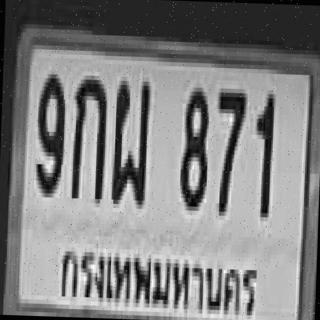A01: (70, 71, 106, 199)
A28: (110, 74, 149, 203)
N01: (252, 90, 273, 213)
N07: (214, 84, 245, 212)
N08: (178, 81, 208, 205)
N09: (34, 67, 64, 191)
P04: (56, 238, 264, 320)
